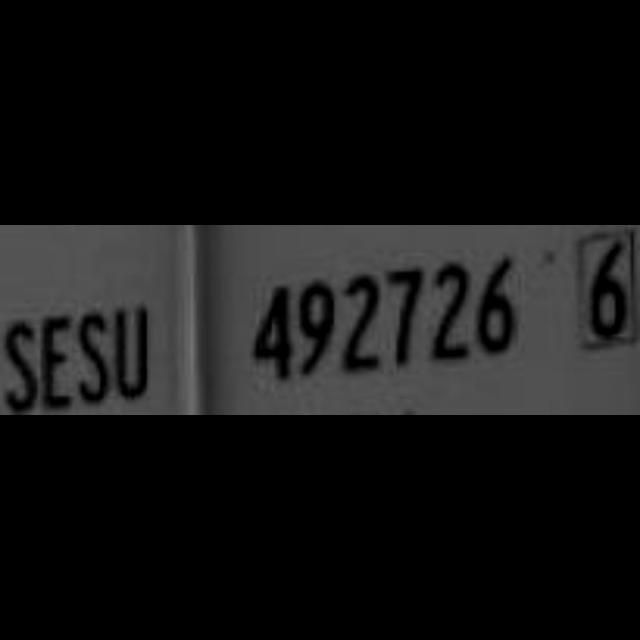2: (428, 251, 476, 367), (338, 266, 382, 376)
4: (246, 276, 298, 384)
6: (574, 228, 640, 344), (474, 245, 526, 361)
7: (380, 258, 428, 372)
9: (296, 270, 338, 380)
e: (36, 307, 78, 415)
s: (0, 314, 42, 416), (75, 300, 109, 416)
u: (114, 298, 156, 408)
